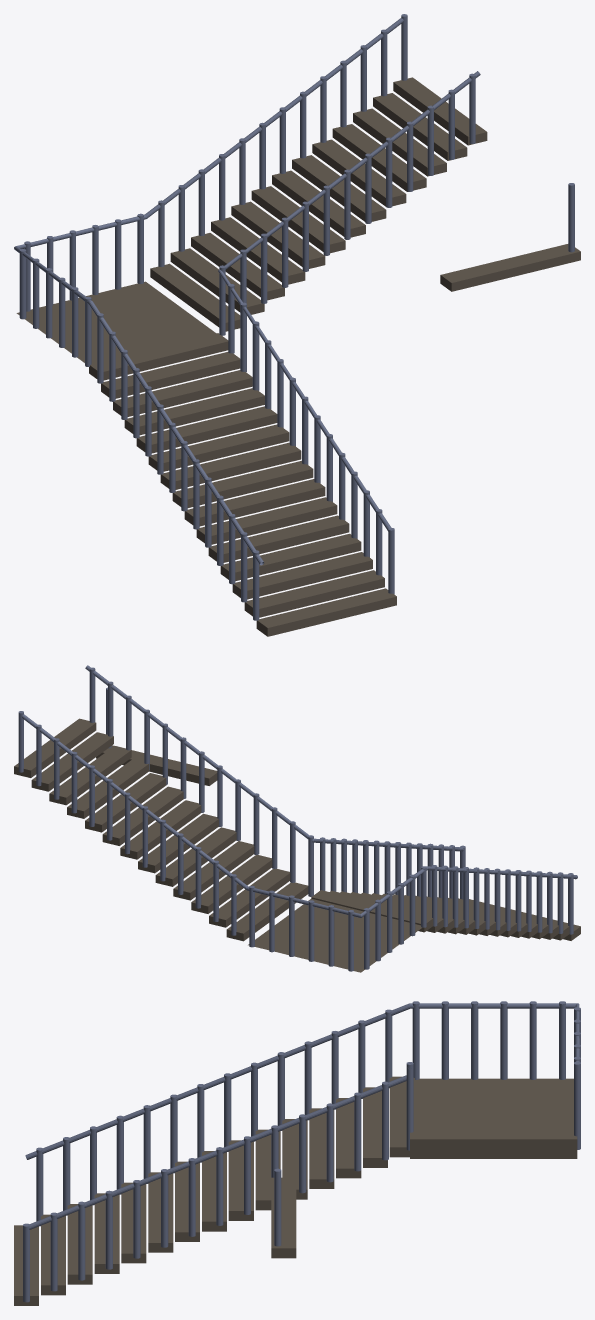
The model's file is escalerasPracticasSimples.glb.
The picture shows the model from 3 angles, top to bottom: view 1: azimuth 30°, elevation 25°; view 2: azimuth 150°, elevation 25°; view 3: azimuth 270°, elevation 25°; orthographic projection. The views are drawn at different scales.
Visible parts, largest first — view 1: Cube.005_clone_6; view 2: Cube.005_clone_6; view 3: Cube.005_clone_6.
Part boxes in pixels (x1,y1,x2,y2): Cube.005_clone_6: (14,14,580,636); Cube.005_clone_6: (14,665,580,972); Cube.005_clone_6: (14,1001,580,1305).
Bounding box in the file's own units: 6.66 × 5.07 × 6.78.
